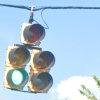traffic lights: (3, 43, 30, 92), (31, 46, 52, 95), (22, 25, 46, 47)
